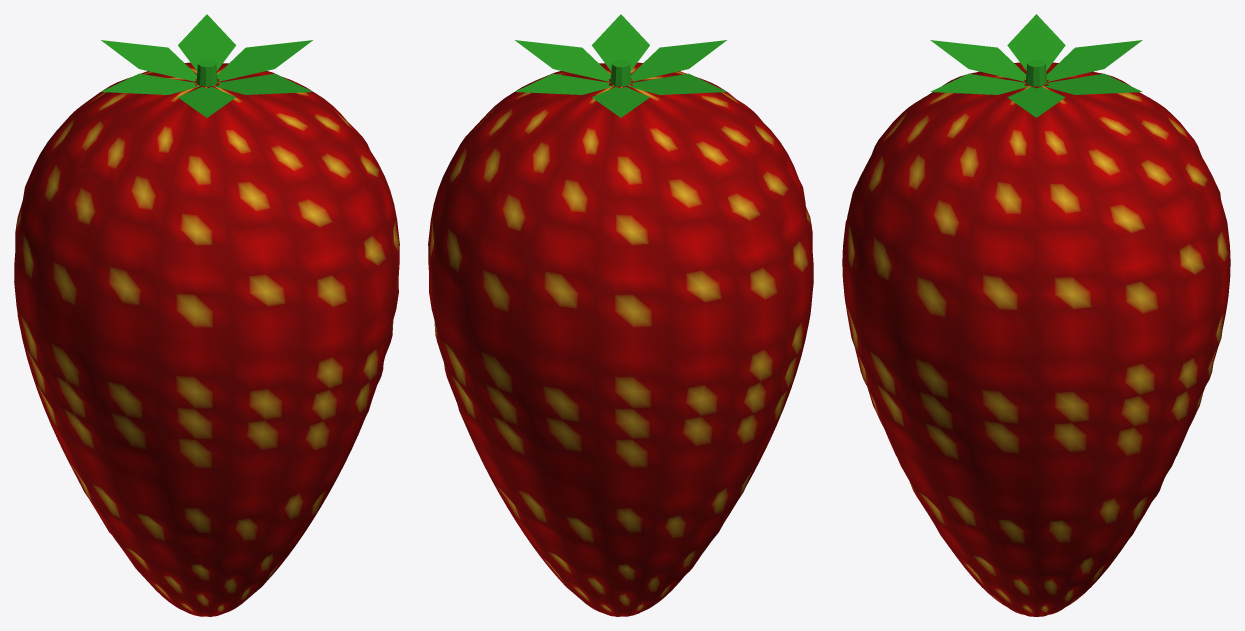
The model's file is fraise.glb.
3 views of the same model, side by side, from view 1: azimuth 30°, elevation 25°; view 2: azimuth 150°, elevation 25°; view 3: azimuth 270°, elevation 25° (orthographic).
Visible parts, largest first — view 1: entier_peau, moitie_B_peau, entier_extra0, moitie_A_peau; view 2: entier_peau, moitie_A_peau, entier_extra0, moitie_B_peau; view 3: entier_peau, moitie_B_peau, moitie_A_peau, entier_extra0.
Boxes of the visible parts, bbox=[...] form: entier_peau: bbox=[14, 62, 398, 616]; moitie_B_peau: bbox=[40, 78, 399, 616]; entier_extra0: bbox=[101, 14, 312, 117]; moitie_A_peau: bbox=[14, 63, 296, 573]; entier_peau: bbox=[429, 62, 813, 616]; moitie_A_peau: bbox=[428, 76, 788, 616]; entier_extra0: bbox=[515, 14, 726, 117]; moitie_B_peau: bbox=[533, 63, 813, 565]; entier_peau: bbox=[842, 64, 1230, 616]; moitie_B_peau: bbox=[842, 62, 1036, 616]; moitie_A_peau: bbox=[1036, 62, 1230, 616]; entier_extra0: bbox=[930, 14, 1142, 117].
Size of the model in its own units: 1.33 by 2.07 by 1.33.
